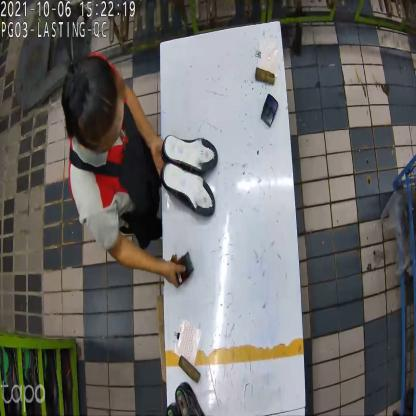shoes: (161, 132, 220, 220)
stamp: (259, 94, 278, 128), (177, 253, 194, 285)
